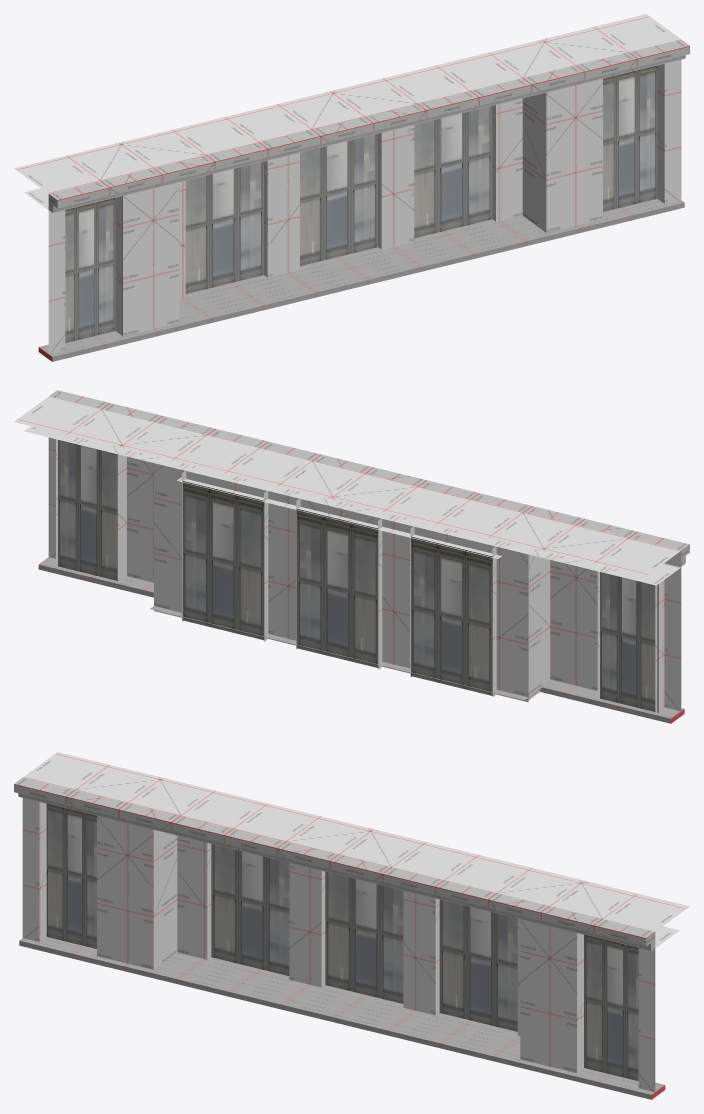
3 renders of one model, top to bottom at view 1: azimuth 30°, elevation 25°; view 2: azimuth 150°, elevation 25°; view 3: azimuth 330°, elevation 25°, orthographic.
Visible parts, largest first — view 1: B_05_3x_a, B_06_border_b, B_06_border_t; view 2: B_05_3x_a, B_06_border_t, B_06_border_b; view 3: B_05_3x_a, B_06_border_b, B_06_border_t.
Boxes of the visible parts, box(x1,y1,x2,y2) form: B_05_3x_a: box(14, 14, 681, 354); B_06_border_b: box(38, 199, 684, 361); B_06_border_t: box(48, 39, 689, 212); B_05_3x_a: box(14, 396, 681, 713); B_06_border_t: box(49, 390, 689, 566); B_06_border_b: box(38, 557, 684, 723); B_05_3x_a: box(22, 752, 689, 1092); B_06_border_b: box(19, 937, 665, 1099); B_06_border_t: box(14, 777, 655, 950).
Bounding box in the file's own units: 60.01 × 7.17 × 15.01.
